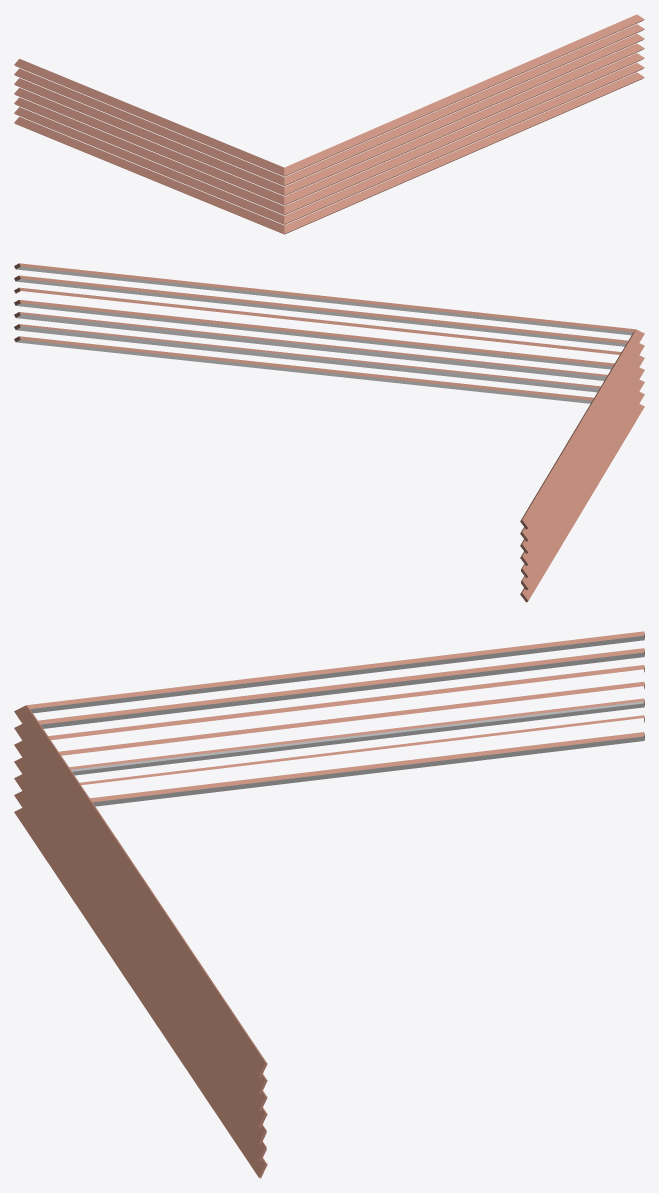
3 views of the same model, one above another, from view 1: azimuth 30°, elevation 25°; view 2: azimuth 150°, elevation 25°; view 3: azimuth 270°, elevation 25° (orthographic). The views are drawn at different scales.
Visible parts, largest first — view 1: 2856, 2852, 2908, 2860, 2900, 2912, 2904, 2928, 2916, 2868, 2864, 2920 (+2 smaller); view 2: 2861, 2905, 2916, 2909, 2913, 2908, 2857, 2912, 2852, 2856, 2901, 2900 (+8 smaller); view 3: 2908, 2912, 2900, 2856, 2852, 2904, 2860, 2932, 2917, 2921, 2916, 2920 (+6 smaller).
Boxes of the visible parts, box(x1,y1,x2,y2) form: 2856: box(284, 43, 644, 205); 2852: box(284, 34, 644, 195); 2908: box(284, 14, 644, 176); 2860: box(284, 53, 644, 214); 2900: box(284, 72, 644, 234); 2912: box(284, 24, 644, 186); 2904: box(284, 63, 644, 224); 2928: box(14, 88, 284, 205); 2916: box(14, 59, 284, 176); 2868: box(14, 116, 284, 234); 2864: box(14, 107, 284, 224); 2920: box(14, 68, 284, 185); 2861: box(16, 314, 606, 380); 2905: box(16, 326, 599, 392); 2916: box(520, 329, 644, 529); 2909: box(16, 266, 632, 335); 2913: box(16, 279, 626, 346); 2908: box(14, 263, 635, 332); 2857: box(16, 303, 612, 369); 2912: box(14, 275, 627, 343); 2852: box(14, 287, 621, 354); 2856: box(14, 299, 614, 366); 2901: box(16, 339, 591, 403); 2900: box(14, 336, 593, 400); 2908: box(14, 705, 267, 1077); 2912: box(14, 724, 267, 1094); 2900: box(14, 808, 267, 1178); 2856: box(14, 757, 267, 1127); 2852: box(14, 740, 267, 1111); 2904: box(14, 791, 266, 1161); 2860: box(14, 774, 266, 1144); 2932: box(71, 701, 644, 775); 2917: box(30, 636, 644, 713); 2921: box(41, 652, 644, 728); 2916: box(26, 631, 644, 708); 2920: box(38, 648, 644, 724).
Size of the model in its own units: 11.27 by 1.34 by 6.82.
